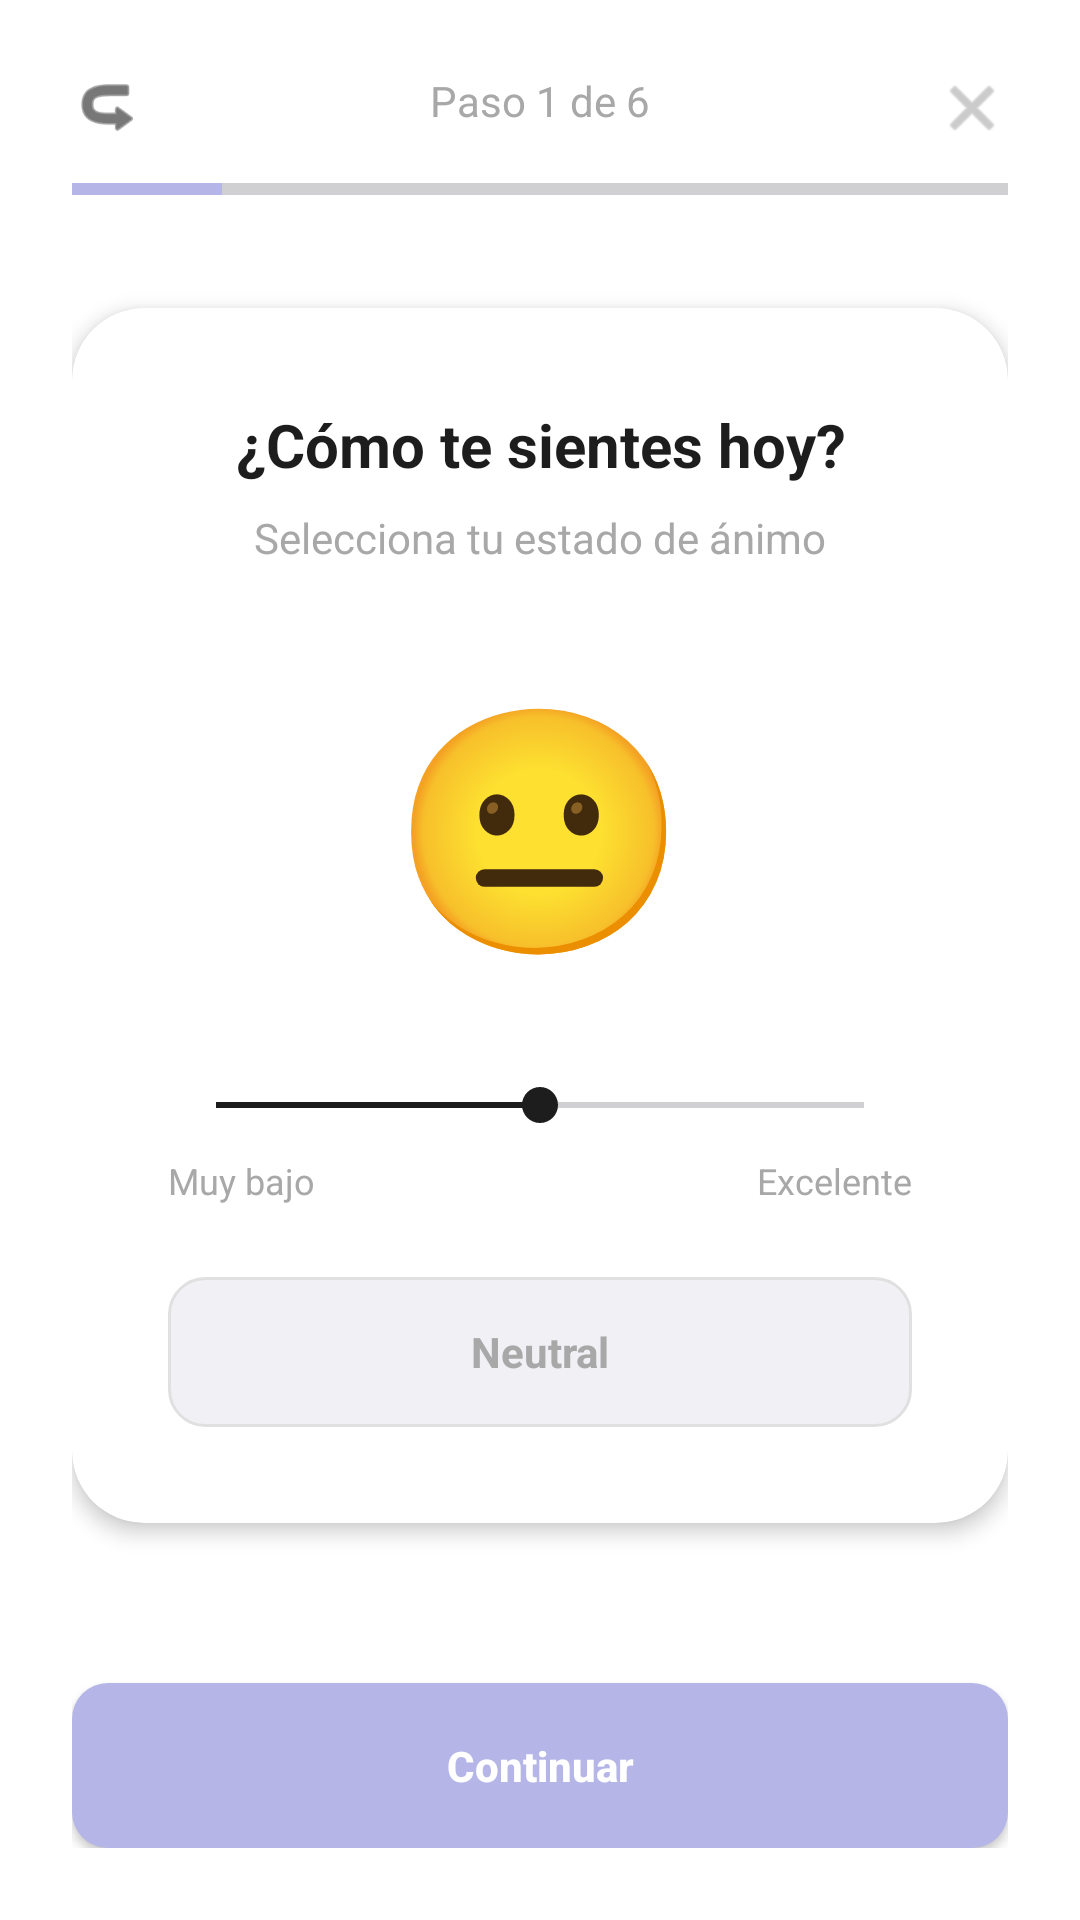

Icon bounding boxes for this 1080×1920 phone screenshot, format bbox=(x1, y1, x2, y2):
close clear cancel: bbox=(950, 86, 994, 130)
